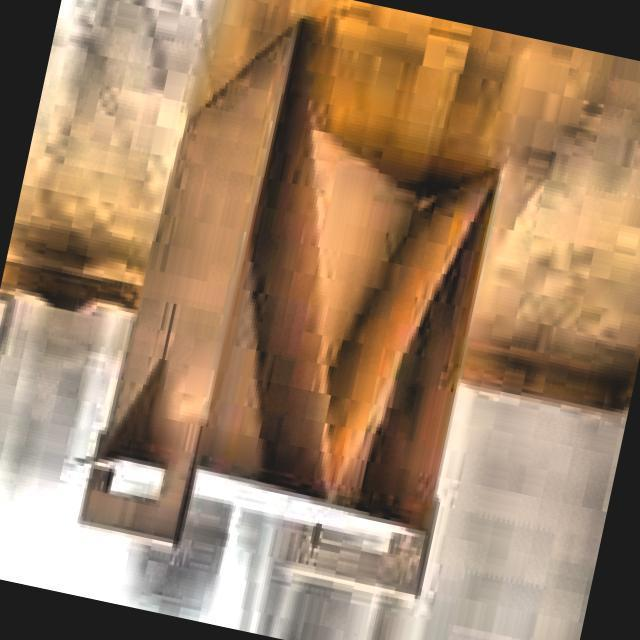cardboard: (64, 0, 528, 605)
